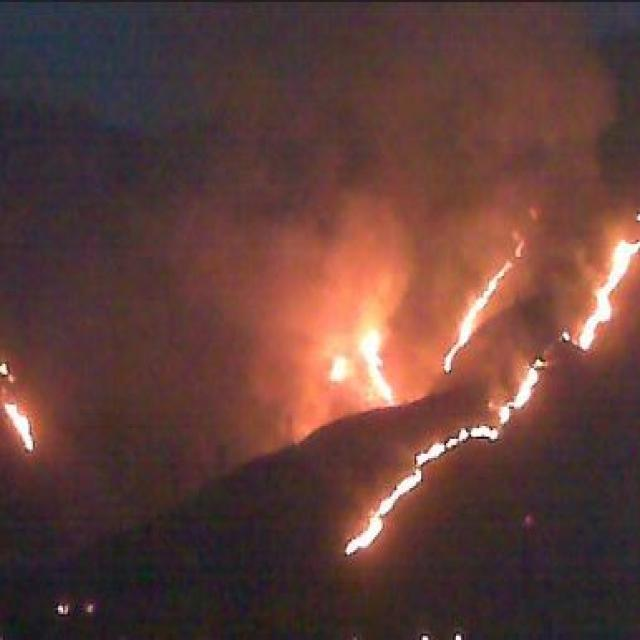Fire: (340, 207, 634, 564), (432, 218, 534, 382), (444, 236, 520, 376), (398, 403, 488, 496), (0, 342, 48, 467), (341, 498, 383, 572), (362, 334, 402, 406), (556, 328, 578, 353), (0, 358, 17, 389), (496, 400, 511, 428)
Smoke: (18, 17, 627, 355)
